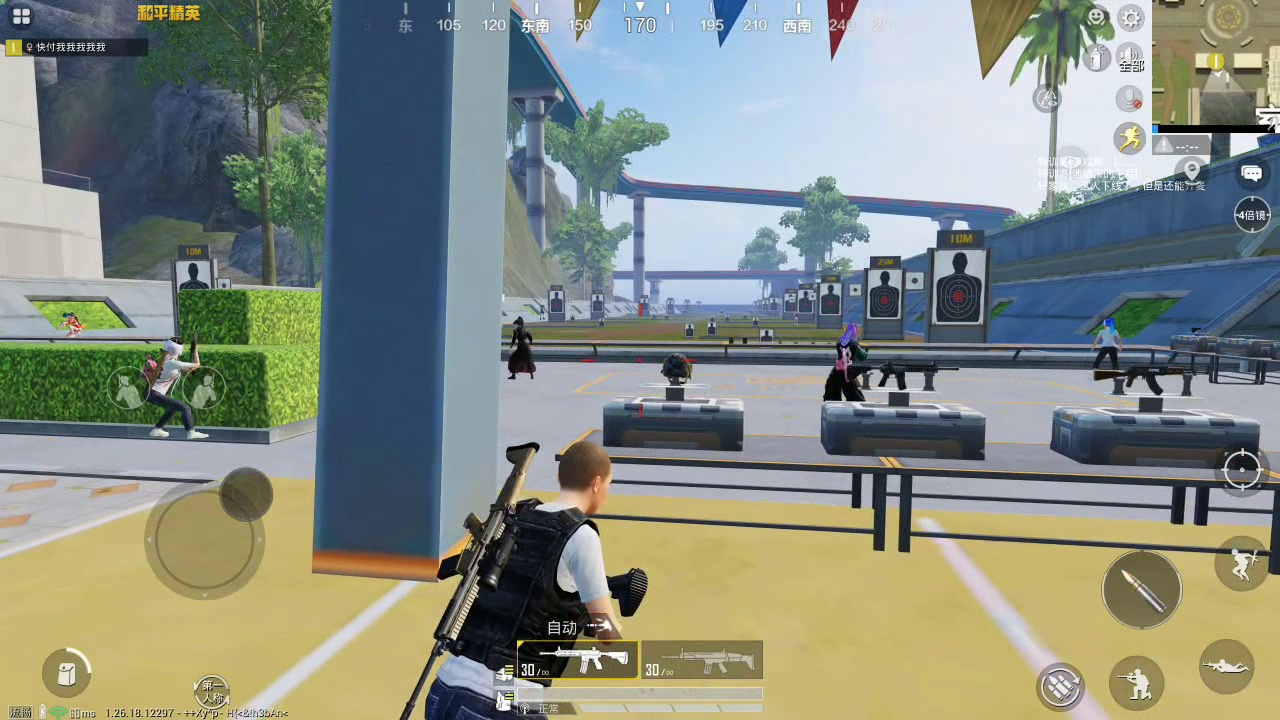enemy: (146, 335, 203, 438), (825, 321, 871, 401), (507, 315, 539, 381), (1090, 313, 1123, 368), (59, 310, 88, 339)
